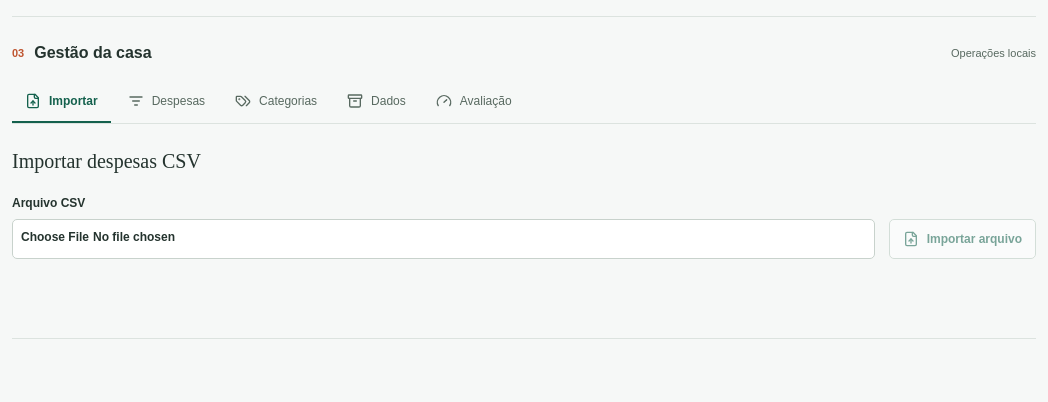
Scenario: household operations › shows the deterministic evaluation numerator and denominator
Step 1. Click the tab "Avaliação" → {"x": 474, "y": 102}, box [423, 81, 525, 123]
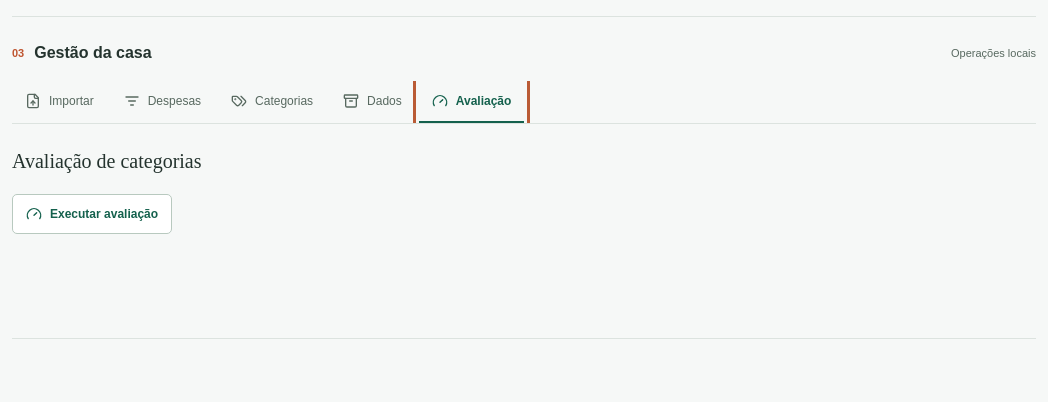
Step 2. Click the button "Executar avaliação" → {"x": 92, "y": 214}, box [12, 194, 172, 234]
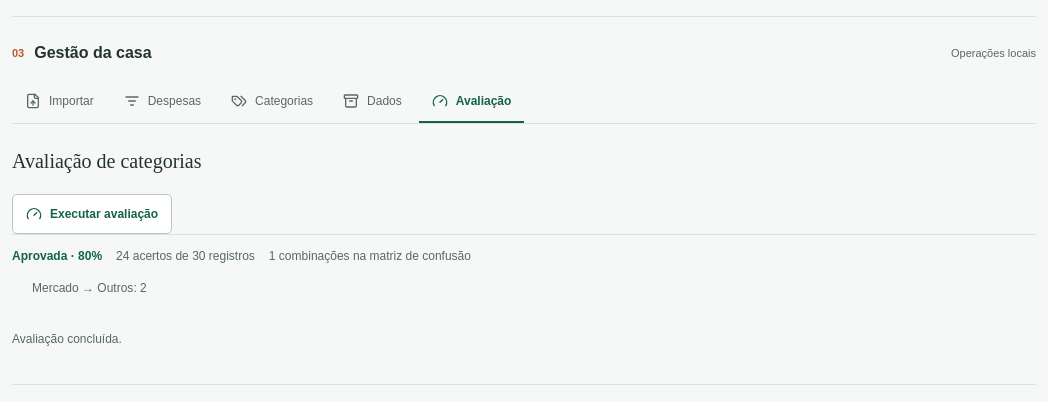
Now the text "24 acertos de 30 registros" is shown, box [116, 247, 255, 265]
Now the list item "Mercado → Outros: 2" is shown, box [32, 281, 147, 295]
